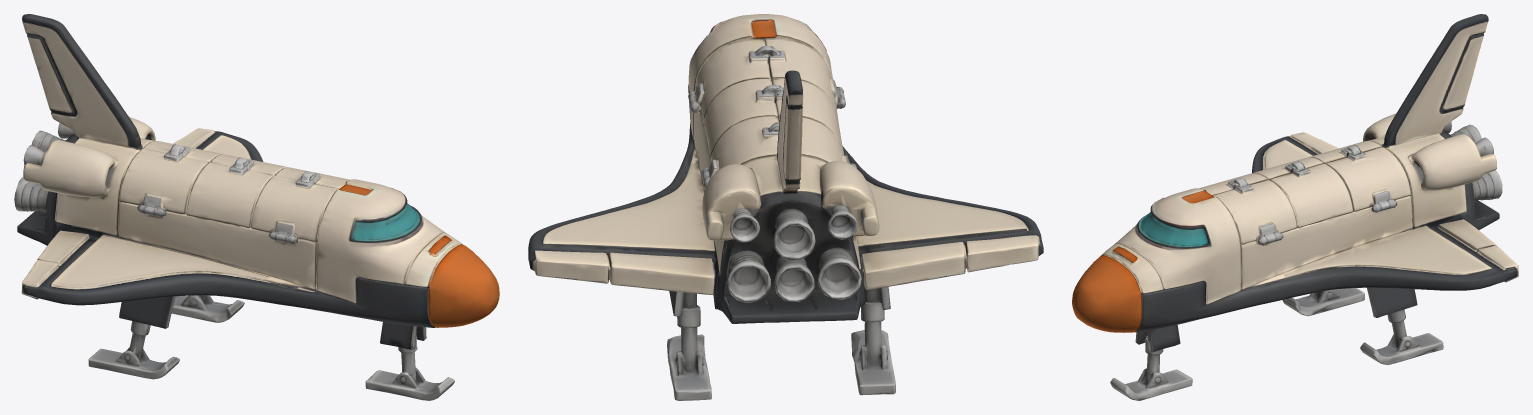
Rendered from etalon-shattl.glb.
The picture shows the model from 3 angles, left to right: view 1: azimuth 30°, elevation 25°; view 2: azimuth 150°, elevation 25°; view 3: azimuth 270°, elevation 25°; orthographic projection. The views are drawn at different scales.
Visible parts, largest first — view 1: tripo_node_eb182cc1-0f7c-419d-9c5c-d0632b46d9d4; view 2: tripo_node_eb182cc1-0f7c-419d-9c5c-d0632b46d9d4; view 3: tripo_node_eb182cc1-0f7c-419d-9c5c-d0632b46d9d4.
Boxes of the visible parts, left/top/right/bottom form: tripo_node_eb182cc1-0f7c-419d-9c5c-d0632b46d9d4: left=14, top=14, right=499, bottom=400; tripo_node_eb182cc1-0f7c-419d-9c5c-d0632b46d9d4: left=528, top=14, right=1043, bottom=400; tripo_node_eb182cc1-0f7c-419d-9c5c-d0632b46d9d4: left=1072, top=14, right=1518, bottom=400.
Bounding box in the file's own units: 0.8078 × 0.6262 × 0.9027.
Materials: 1 (1 with a texture image).
